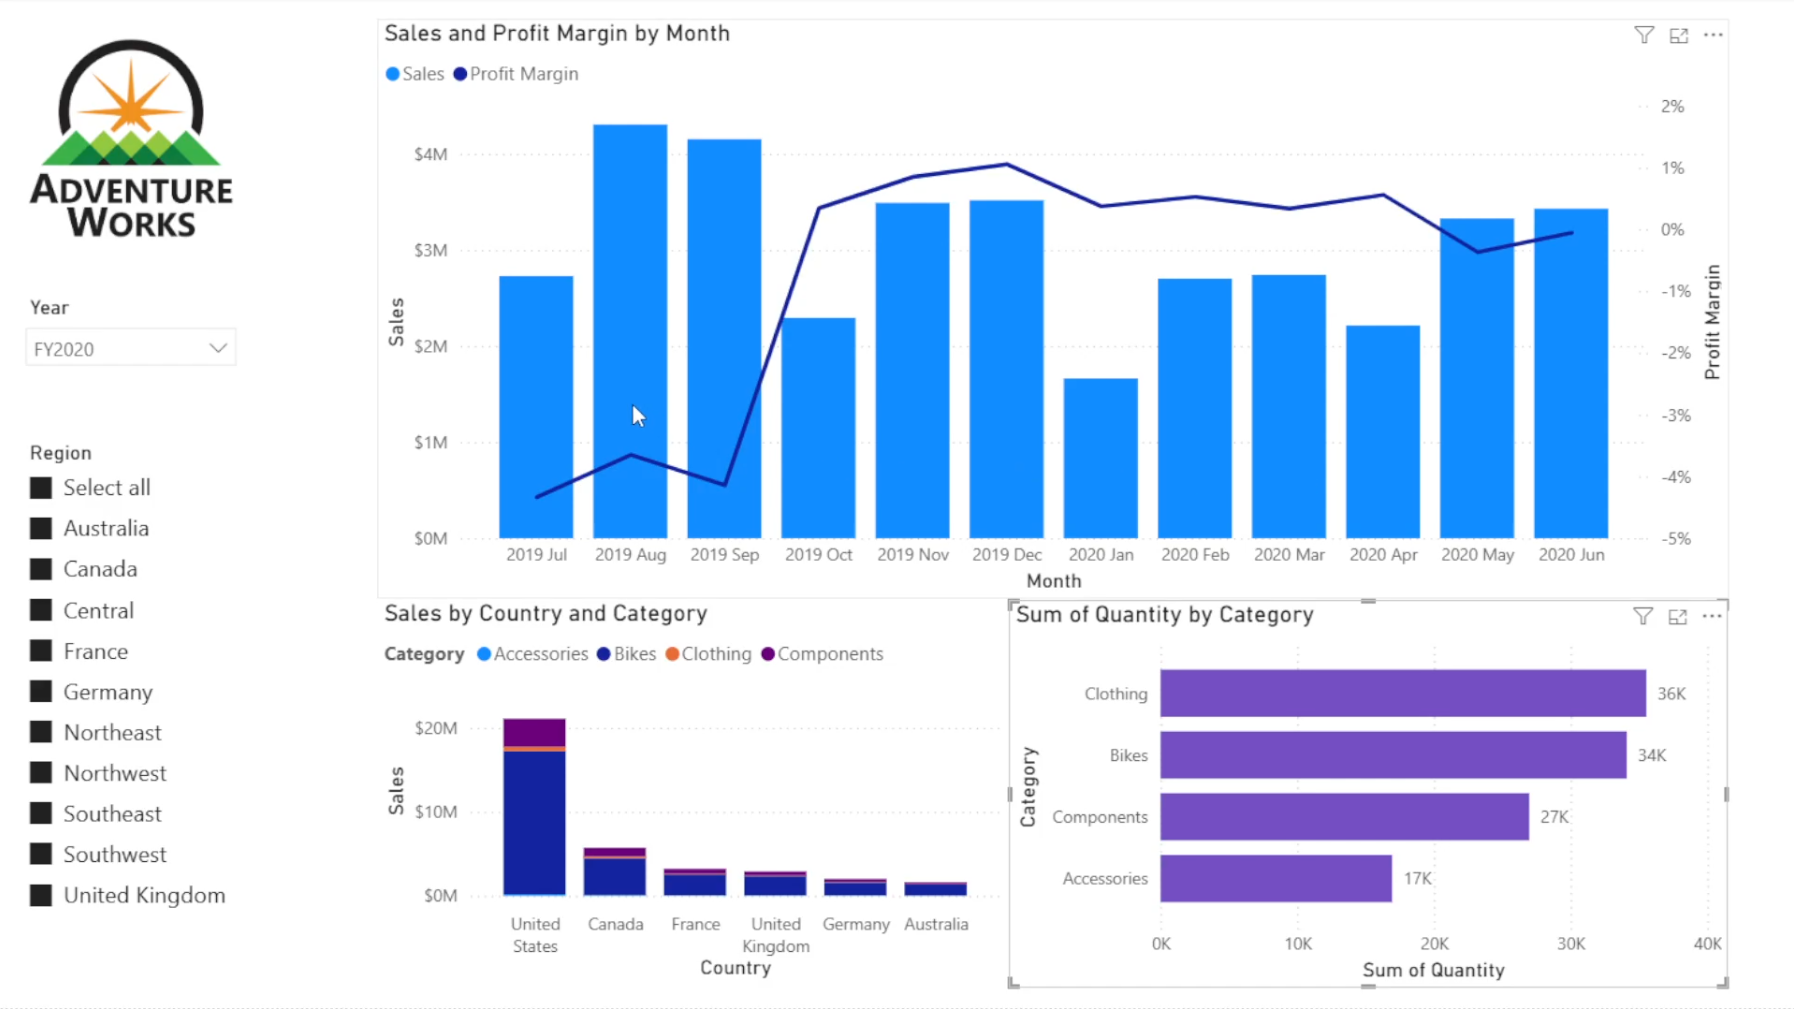

Layout of this report page (visuals, bound fields, positions):
{"tool":"powerbi","page":{"name":"Overview","canvas":[1280,720],"ordinal":0},"visuals":[{"type":"image","box":[10,16,170,170],"z":0},{"type":"slicer","fields":{"Values":["Date.Year"]},"box":[10,208,170,71],"z":1000},{"type":"slicer","fields":{"Values":["Region.Region"]},"box":[10,311,170,393],"z":2000},{"type":"lineStackedColumnComboChart","fields":{"Category":["Date.Month"],"Y":["Sum(Sales.Sales)"],"Y2":["Sales.Profit Margin"]},"box":[270,15.7,961.4,412.9],"z":3000},{"type":"columnChart","fields":{"Category":["Region.Country"],"Y":["Sum(Sales.Sales)"],"Series":["Product.Category"]},"box":[270,428.6,448.6,275.7],"z":4000},{"type":"barChart","fields":{"Category":["Product.Category"],"Y":["Sum(Sales.Quantity)"]},"box":[719,429,512,276],"z":5000}]}

Visuals, with their boxes in screenshot pixels (x1, y1, x2, y2), scaled from the page's 1280x720 canvas onto the 1794x1009 screenshot:
image: 14,22,252,261
slicer - Date.Year: 14,291,252,391
slicer - Region.Region: 14,436,252,987
lineStackedColumnComboChart - Date.Month x Sum(Sales.Sales): 378,22,1726,601
columnChart - Region.Country x Sum(Sales.Sales): 378,601,1007,987
barChart - Product.Category x Sum(Sales.Quantity): 1008,601,1725,988
